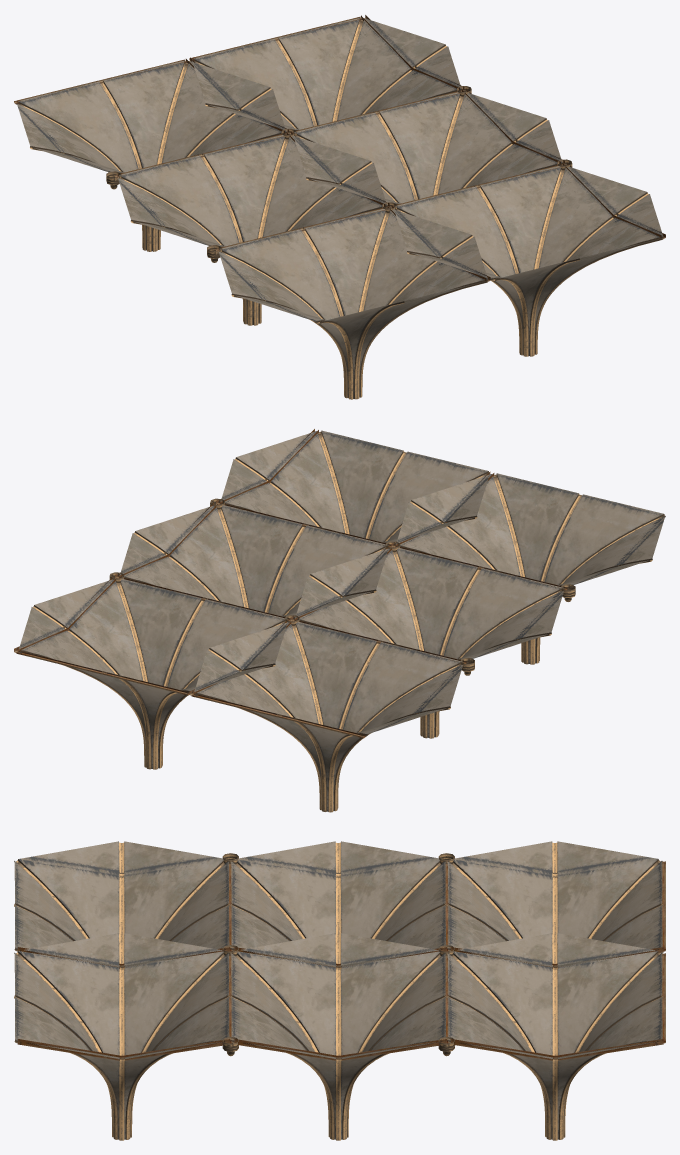
Rendered from church_ceiling.fbx.
3 views of the same model, one above another, from view 1: azimuth 30°, elevation 25°; view 2: azimuth 150°, elevation 25°; view 3: azimuth 270°, elevation 25° (orthographic). The views are drawn at different scales.
Visible parts, largest first — view 1: NurbsPath.024_Mesh.015, NurbsPath.022_Mesh.007; view 2: NurbsPath.024_Mesh.015, NurbsPath.022_Mesh.007; view 3: NurbsPath.024_Mesh.015, NurbsPath.022_Mesh.007.
Boxes of the visible parts, x1,y1,x2,y2 form: NurbsPath.024_Mesh.015: (14, 15, 665, 399); NurbsPath.022_Mesh.007: (106, 86, 572, 262); NurbsPath.024_Mesh.015: (14, 429, 665, 812); NurbsPath.022_Mesh.007: (109, 498, 575, 675); NurbsPath.024_Mesh.015: (14, 841, 665, 1140); NurbsPath.022_Mesh.007: (222, 853, 454, 1056).
Size of the model in its own units: 345 by 105 by 435.
Materials: 1 (1 with a texture image).
